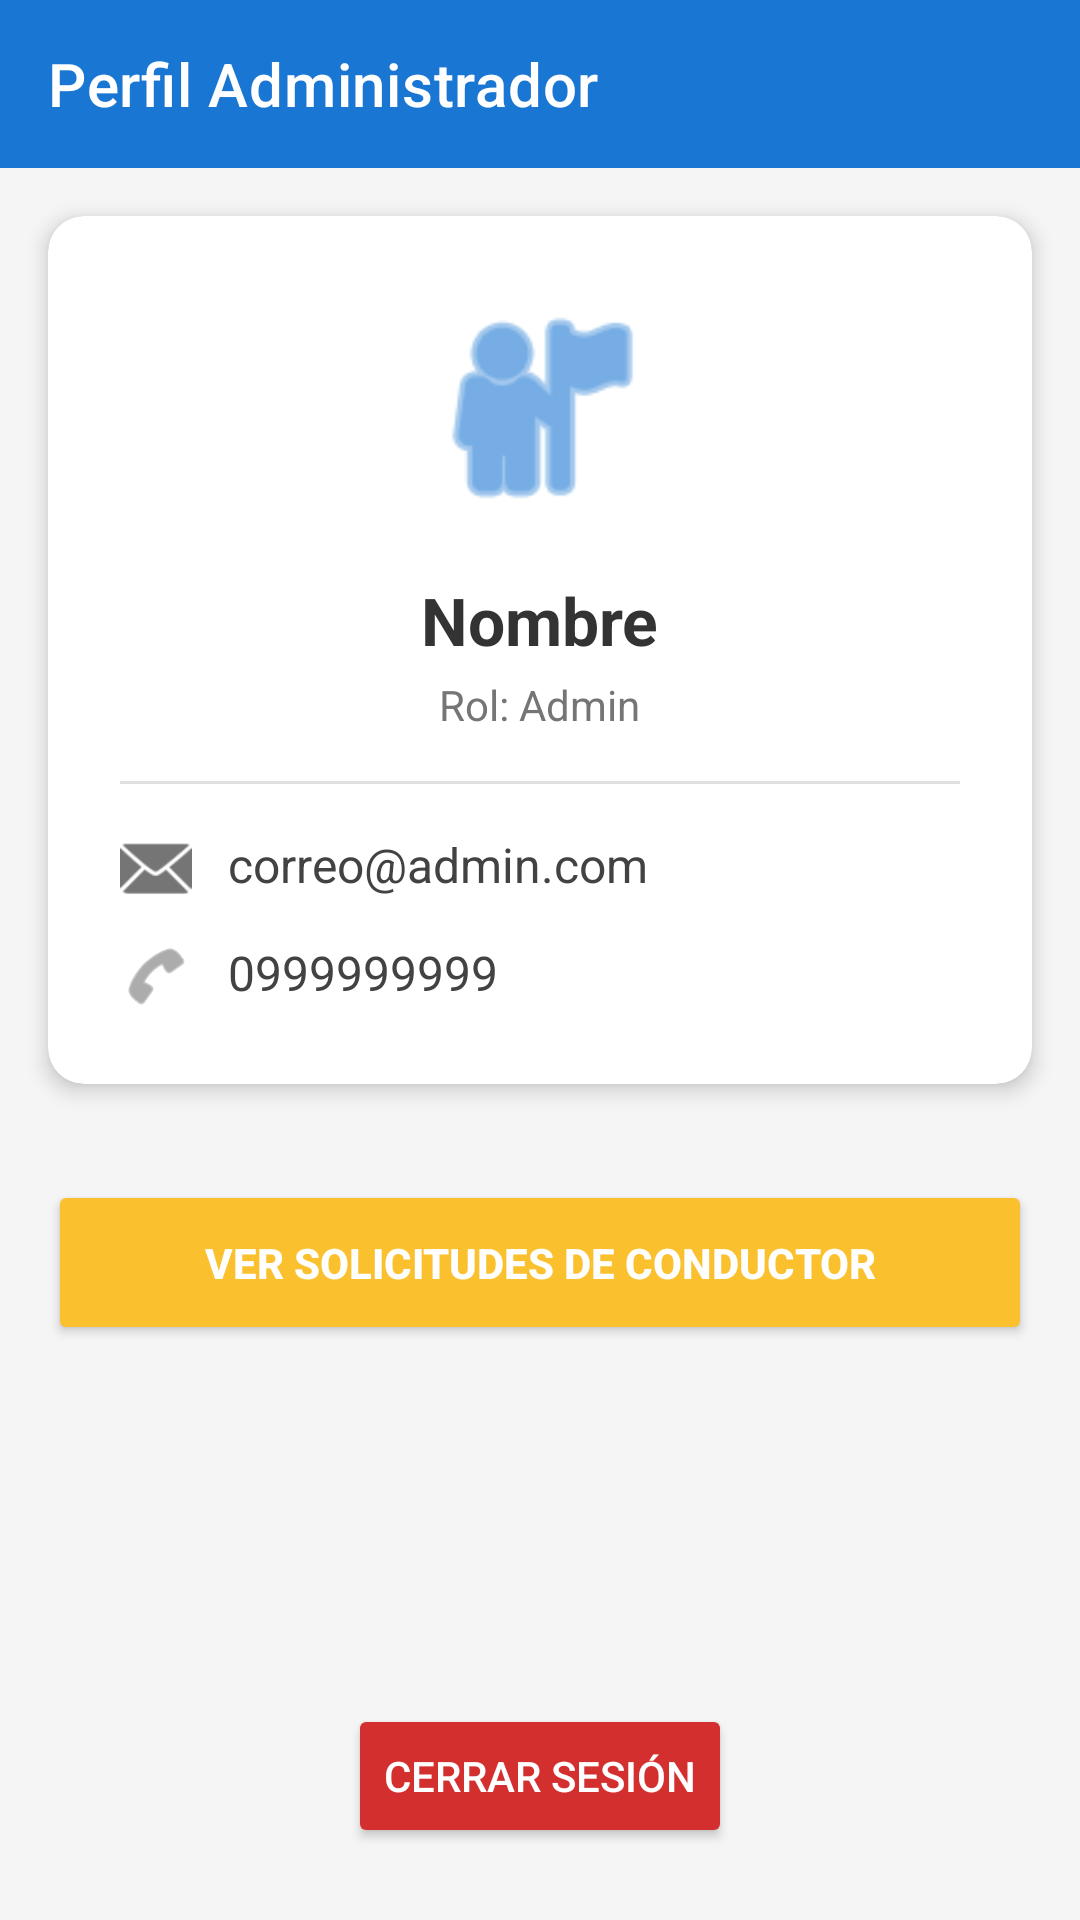

Icons on this 1080 × 1920 Android screen, each with its box as [left=x1, top=y1, right=x2, bottom=y2]:
call: [left=128, top=948, right=184, bottom=1004]
email: [left=120, top=843, right=192, bottom=894]
